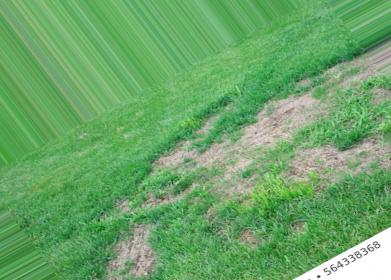patch: (292, 148, 349, 174), (121, 226, 155, 268), (275, 99, 319, 121), (194, 148, 246, 166), (357, 144, 391, 168), (250, 128, 287, 146), (215, 173, 248, 192), (161, 155, 180, 170)
